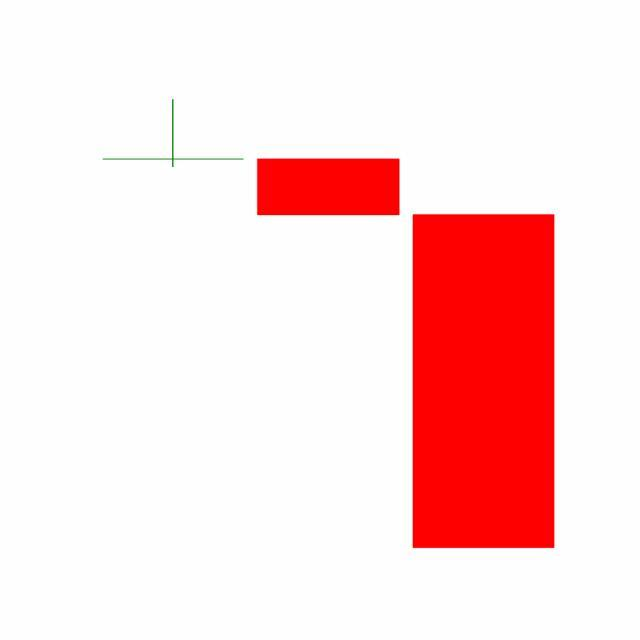Marubozu: (250, 158, 407, 216)
